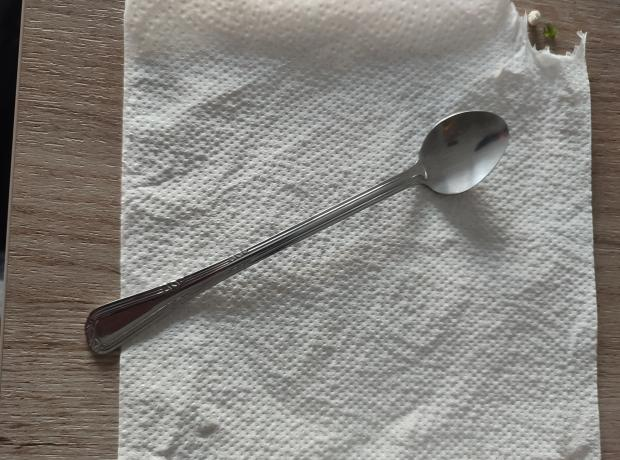metal: (85, 110, 512, 358)
